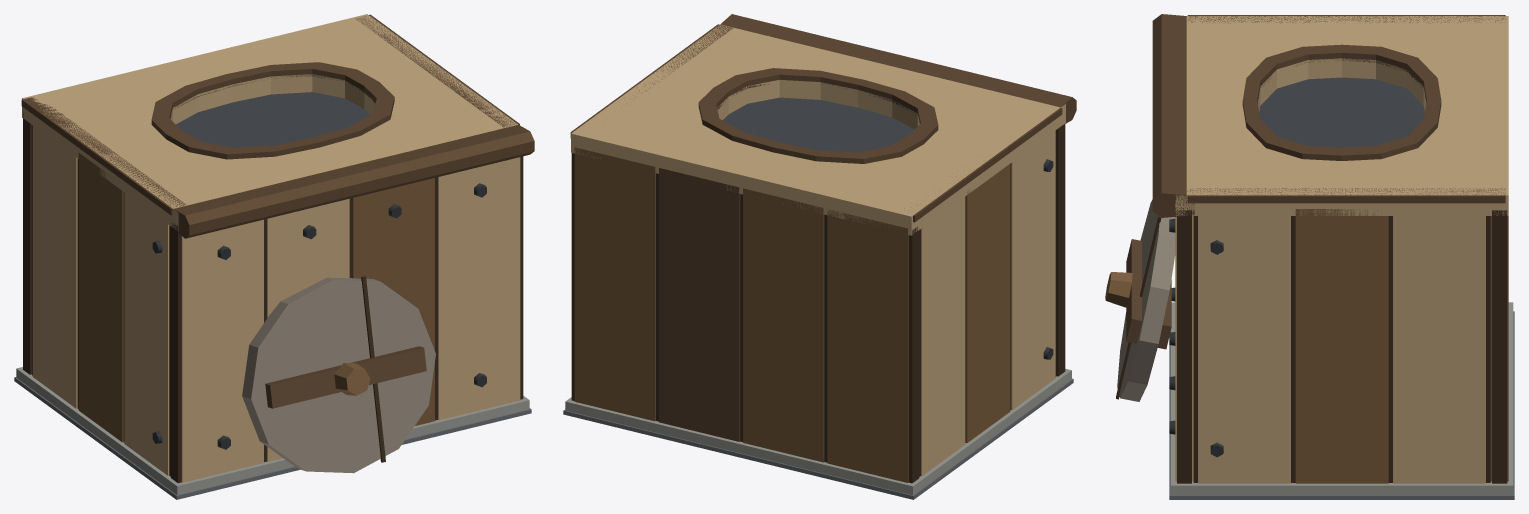
The model's file is SM_LPD_Prison_PrivySeat_01.fbx.
The picture shows the model from 3 angles, left to right: view 1: azimuth 30°, elevation 25°; view 2: azimuth 150°, elevation 25°; view 3: azimuth 270°, elevation 25°; orthographic projection. The views are drawn at different scales.
Parts seen in each view (by area): view 1: SM_LPD_Prison_PrivySeat_01; view 2: SM_LPD_Prison_PrivySeat_01; view 3: SM_LPD_Prison_PrivySeat_01.
Boxes of the visible parts, <box> form: SM_LPD_Prison_PrivySeat_01: <box>14,14,534,499</box>; SM_LPD_Prison_PrivySeat_01: <box>563,14,1076,499</box>; SM_LPD_Prison_PrivySeat_01: <box>1105,14,1514,499</box>.
Size of the model in its own units: 0.576 by 0.448 by 0.5407.
